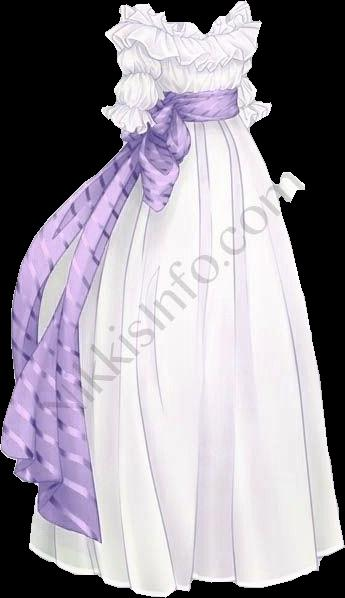Bodice: (109, 1, 261, 122)
Hemline: (0, 445, 344, 597)
Neckline: (119, 0, 242, 38), (119, 16, 254, 42)
Skirt: (1, 115, 344, 596)
Sleeve: (101, 50, 163, 132)
Waistline: (110, 19, 267, 74), (166, 111, 241, 126)
